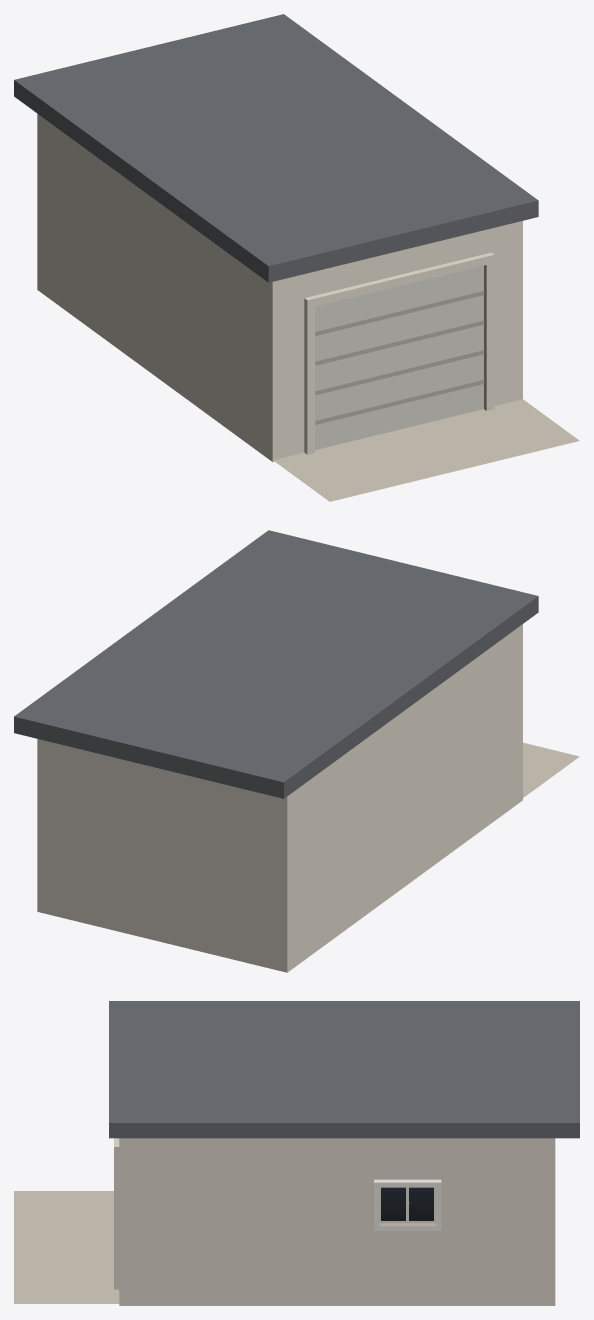
The model's file is garage_simple.glb.
The picture shows the model from 3 angles, top to bottom: view 1: azimuth 30°, elevation 25°; view 2: azimuth 150°, elevation 25°; view 3: azimuth 270°, elevation 25°; orthographic projection. The views are drawn at different scales.
Visible parts, largest first — view 1: garage_simple; view 2: garage_simple; view 3: garage_simple.
Boxes of the visible parts, bbox=[...] form: garage_simple: bbox=[14, 14, 579, 501]; garage_simple: bbox=[14, 530, 579, 972]; garage_simple: bbox=[14, 1001, 579, 1305].
Size of the model in its own units: 4.1 by 2.94 by 8.05.
2 materials, 2 textured.
